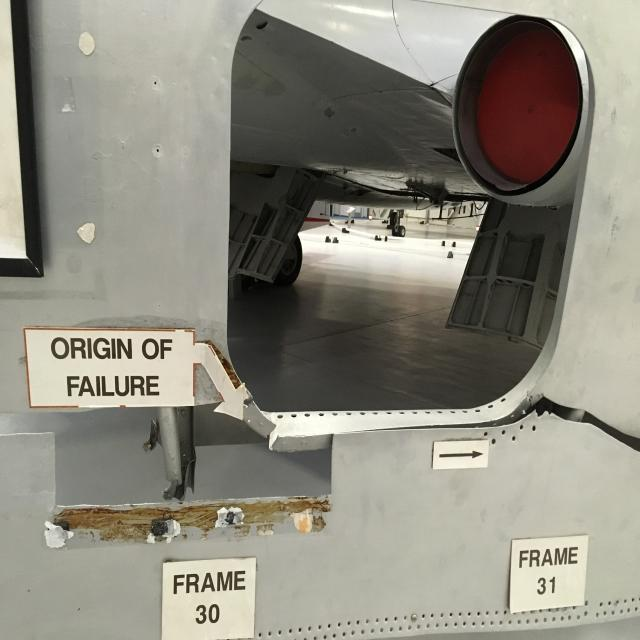Rupture: (345, 389, 640, 457), (262, 422, 282, 451)
